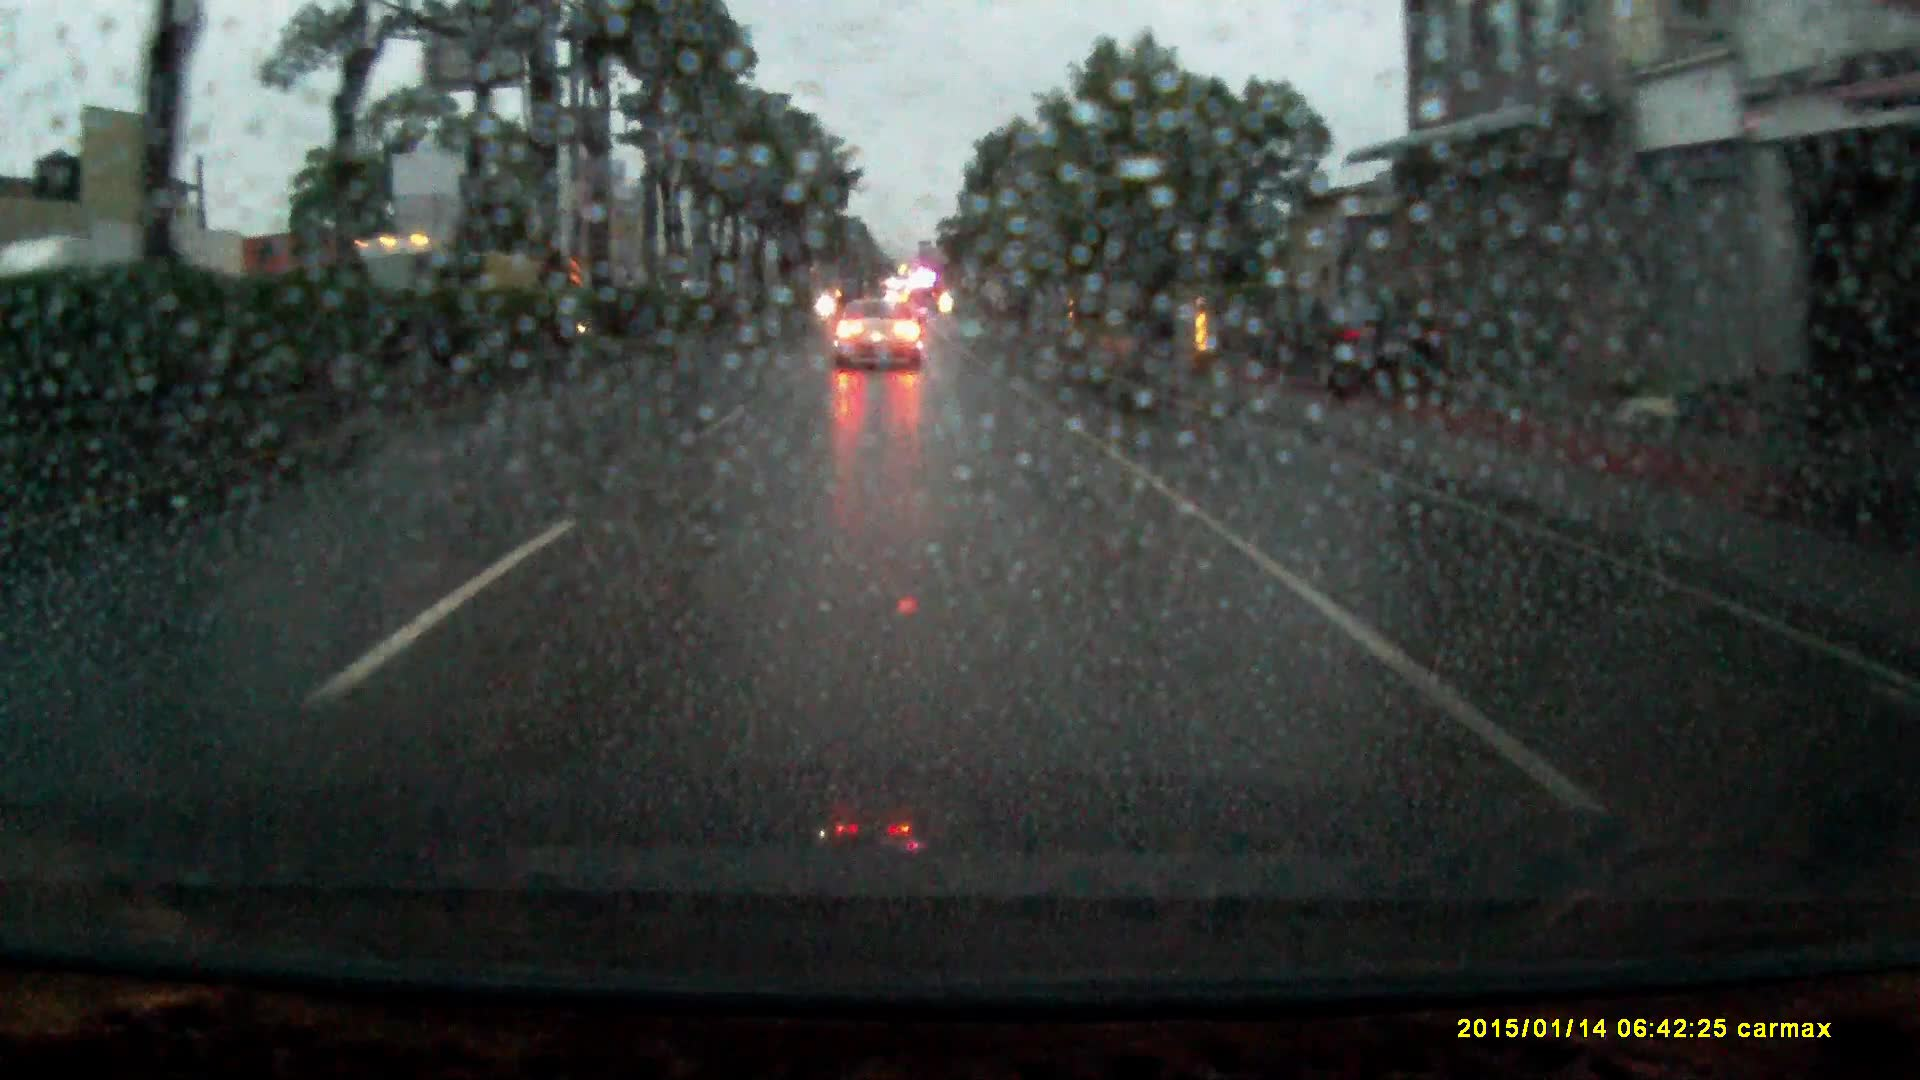vehicle: (324, 232, 541, 342), (1282, 293, 1443, 392), (831, 301, 926, 373)
